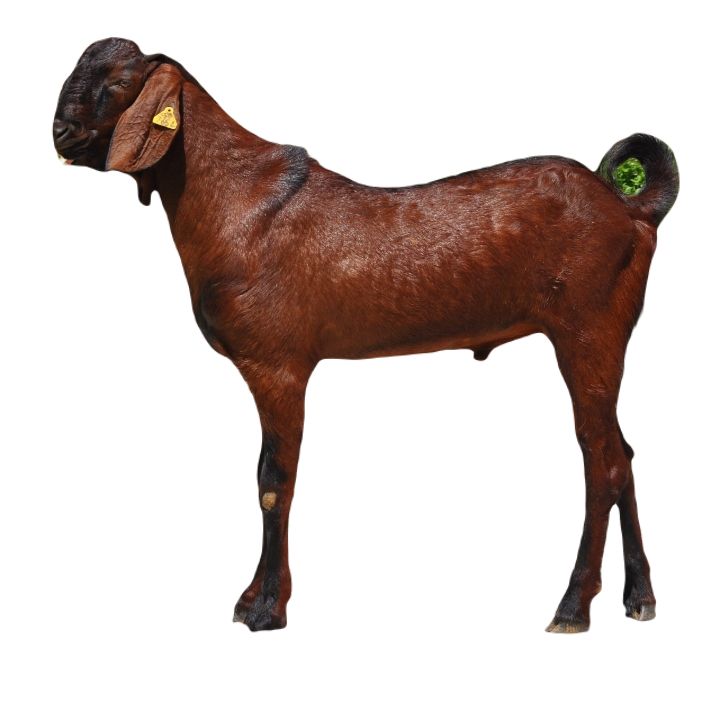Goat: (50, 39, 678, 640)
